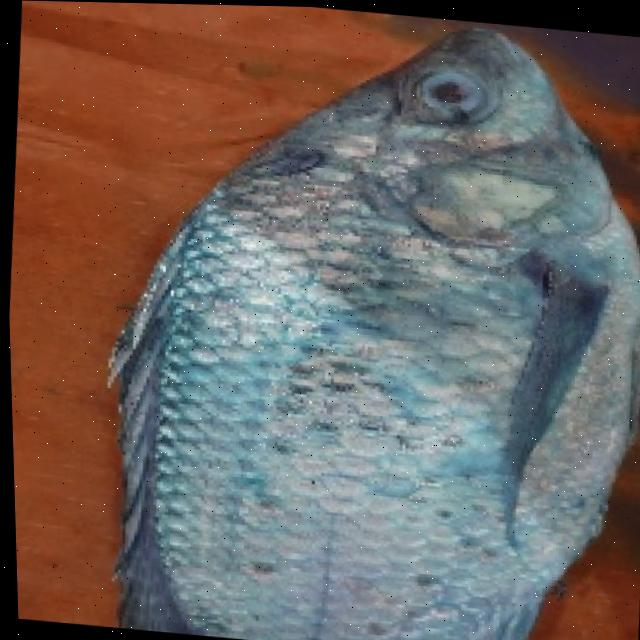Non-Fresh: (94, 2, 640, 640), (400, 56, 507, 133)
